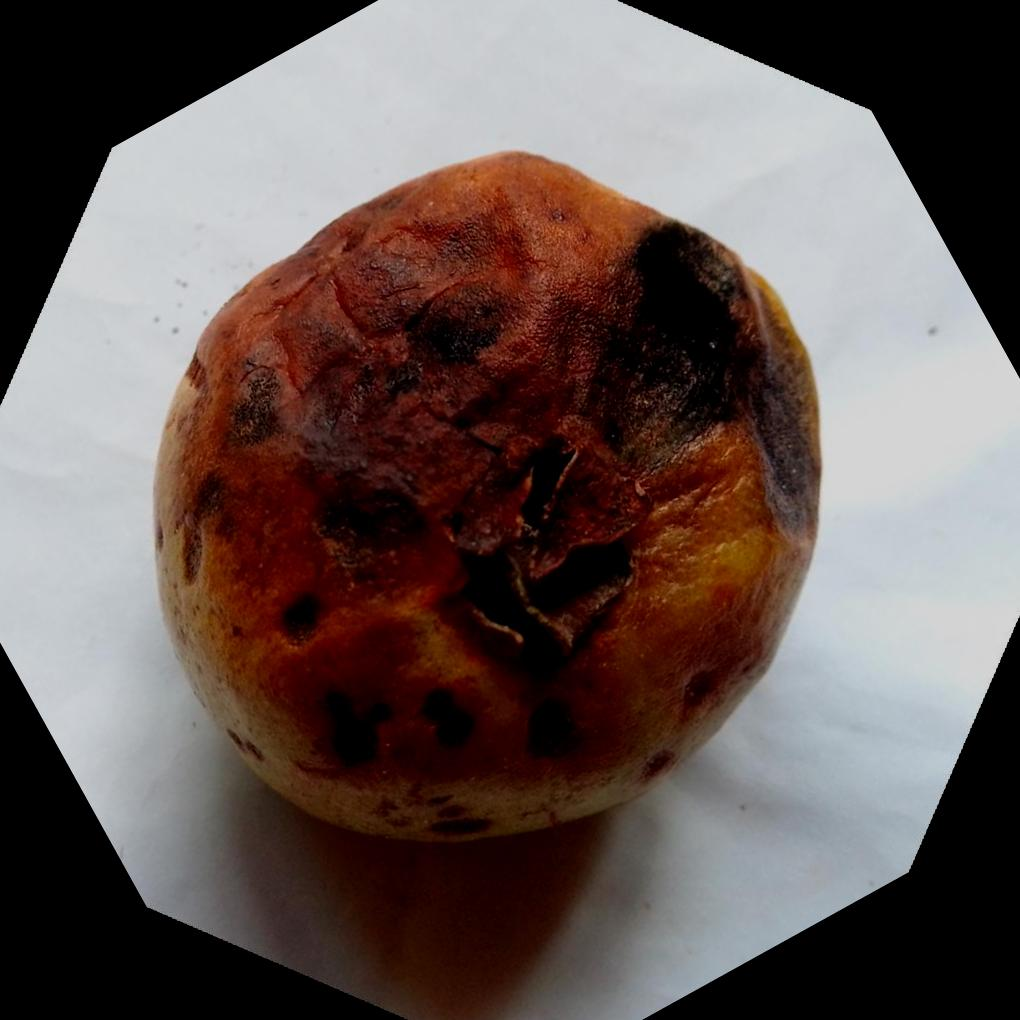FreshOrange: (151, 151, 826, 852)
